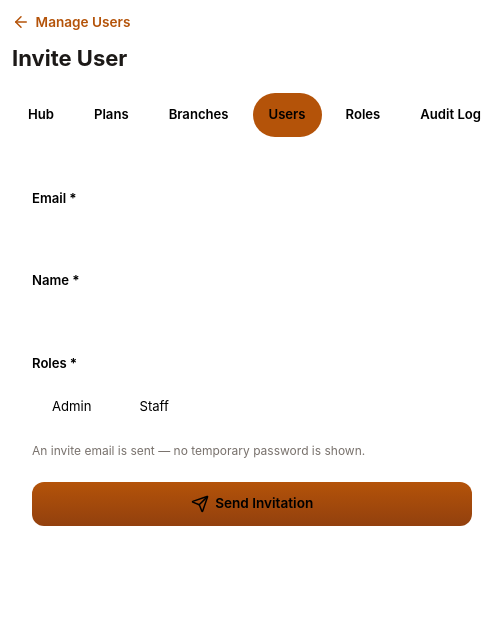
Test: InviteUserPage › validates on submit: email, name and at least one role, and sends nothing
Expected: the button "admin" is shown, [32,384,112,428]
Click the button "Send Invitation".
click(252, 504)  # box [32,482,472,526]
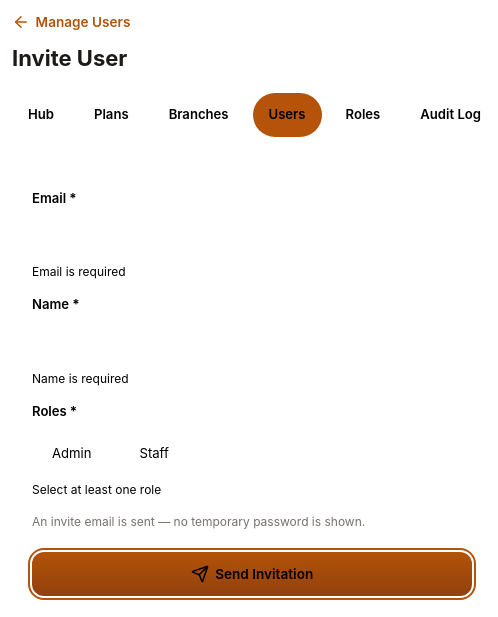
Result: the text "Email is required" is shown at [32,264,126,280]
Result: the text "Name is required" is shown at [32,371,129,386]
Result: the text "Select at least one role" is shown at [32,482,161,497]
